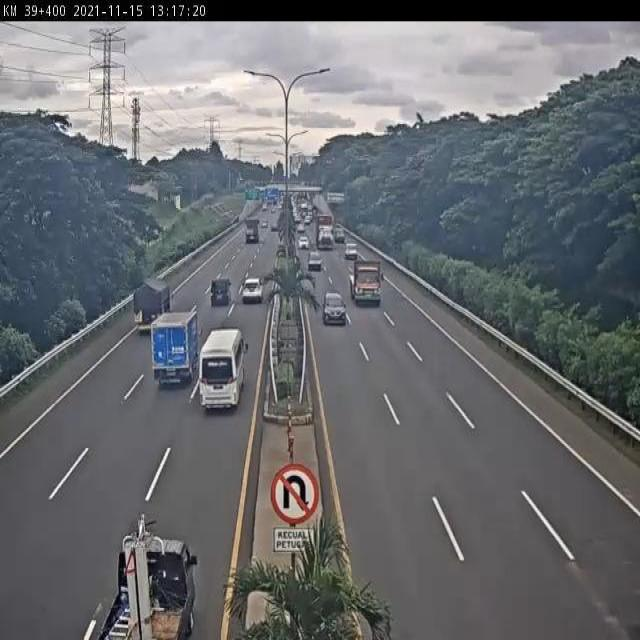ARABA: (322, 292, 347, 331)
KAMYONET: (149, 312, 196, 387), (131, 280, 174, 333), (348, 253, 383, 308)
OTOBUS: (196, 328, 245, 415)
